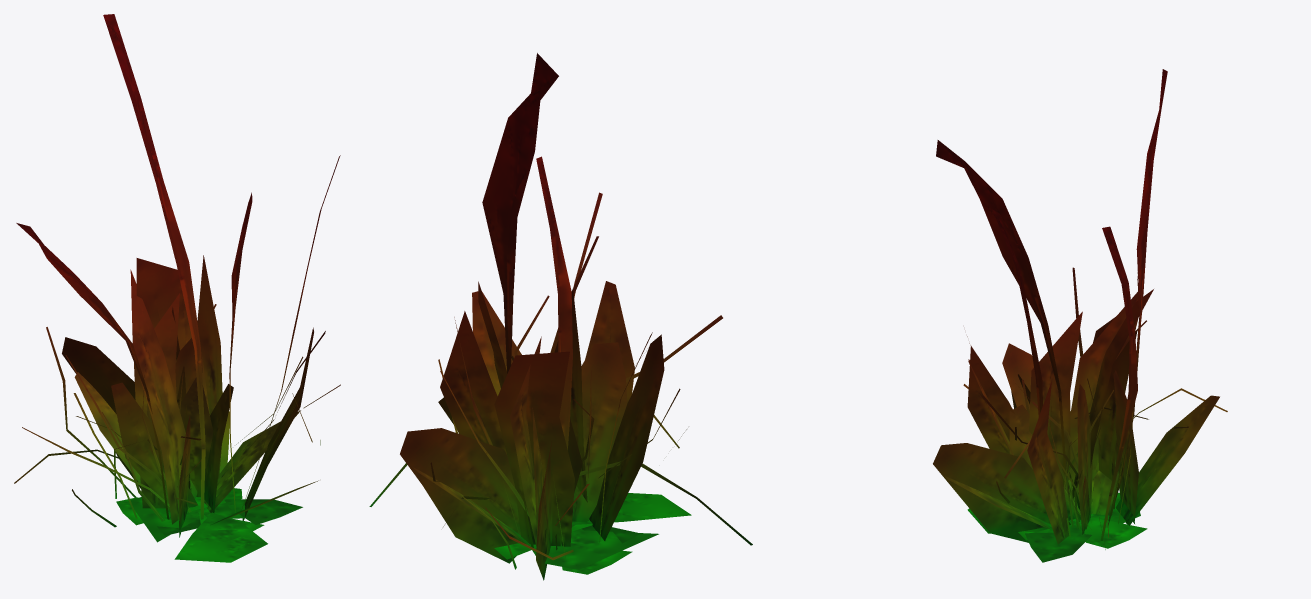
Rendered from Thatching Grass_LOD1_Var1_uddmcgbia.glb.
3 views of the same model, side by side, from view 1: azimuth 30°, elevation 25°; view 2: azimuth 150°, elevation 25°; view 3: azimuth 270°, elevation 25° (orthographic). The views are drawn at different scales.
Visible parts, largest first — view 1: _2296_Var1_LOD1; view 2: _2296_Var1_LOD1; view 3: _2296_Var1_LOD1.
Part boxes in pixels (x1,y1,x2,y2): _2296_Var1_LOD1: (14, 14, 340, 562); _2296_Var1_LOD1: (369, 53, 752, 580); _2296_Var1_LOD1: (933, 69, 1227, 562).
Size of the model in its own units: 0.4229 by 0.6144 by 0.478.
Materials: 1 (1 with a texture image).
